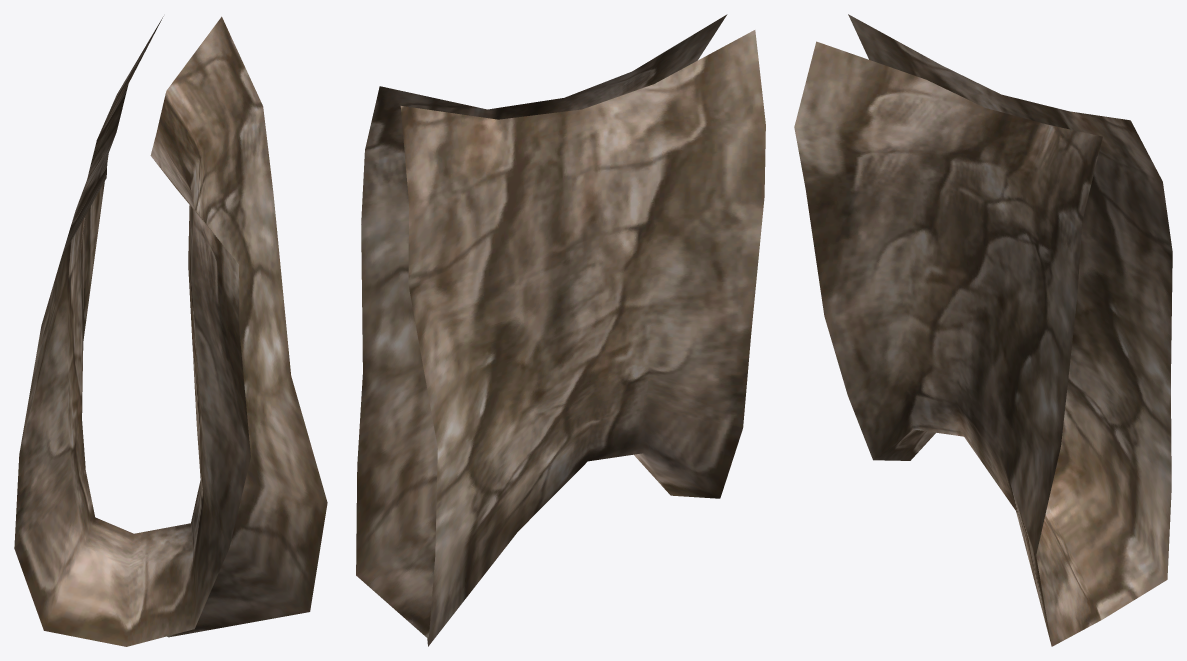
Rendered from OVERHILL_A_01_LINE253.fbx.
3 views of the same model, side by side, from view 1: azimuth 30°, elevation 25°; view 2: azimuth 150°, elevation 25°; view 3: azimuth 270°, elevation 25° (orthographic). The views are drawn at different scales.
Parts seen in each view (by area): view 1: OVERHILL_A_01_LINE253; view 2: OVERHILL_A_01_LINE253; view 3: OVERHILL_A_01_LINE253.
Part boxes in pixels (left/top/right/bottom): OVERHILL_A_01_LINE253: left=14, top=16, right=327, bottom=646; OVERHILL_A_01_LINE253: left=356, top=14, right=765, bottom=646; OVERHILL_A_01_LINE253: left=794, top=14, right=1172, bottom=646.
Size of the model in its own units: 34696 by 55120 by 36479.
1 material, 1 textured.
